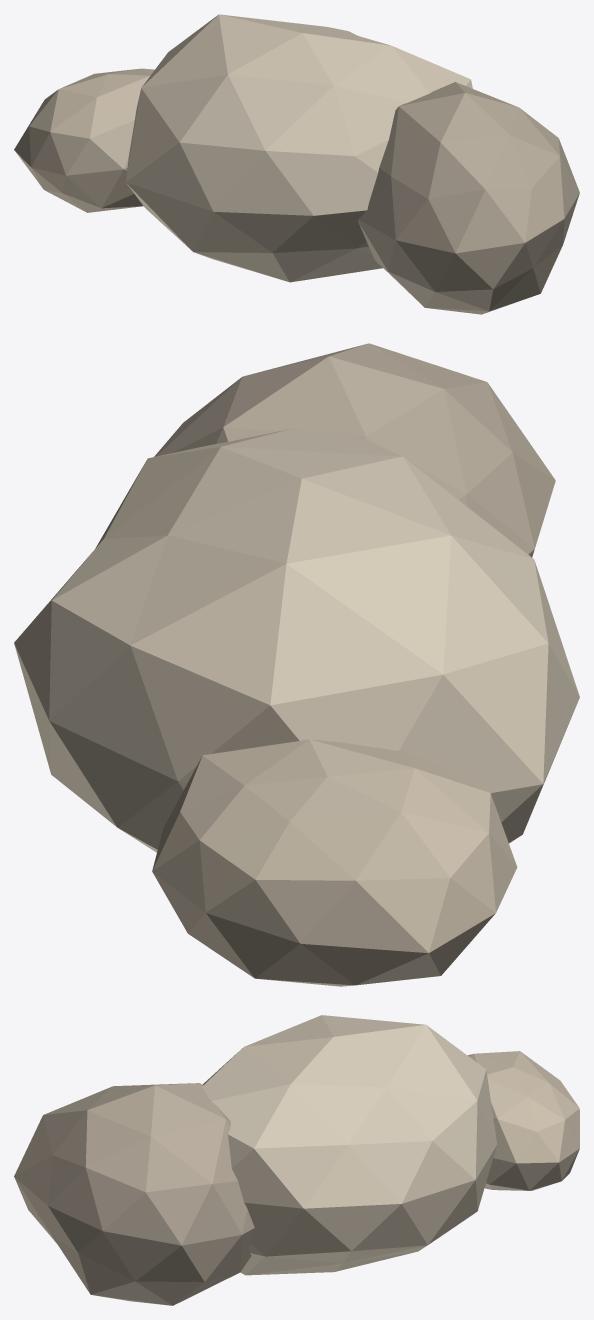
The model's file is campo_rock_cluster_6.glb.
The picture shows the model from 3 angles, top to bottom: view 1: azimuth 30°, elevation 25°; view 2: azimuth 150°, elevation 25°; view 3: azimuth 270°, elevation 25°; orthographic projection. The views are drawn at different scales.
Parts seen in each view (by area): view 1: campo_rock_cluster_6.glb; view 2: campo_rock_cluster_6.glb; view 3: campo_rock_cluster_6.glb.
Boxes of the visible parts, <box> form: campo_rock_cluster_6.glb: <box>14,14,579,314</box>; campo_rock_cluster_6.glb: <box>14,343,579,986</box>; campo_rock_cluster_6.glb: <box>14,1015,579,1305</box>.
Bounding box in the file's own units: 2.12 × 1.26 × 2.81.
